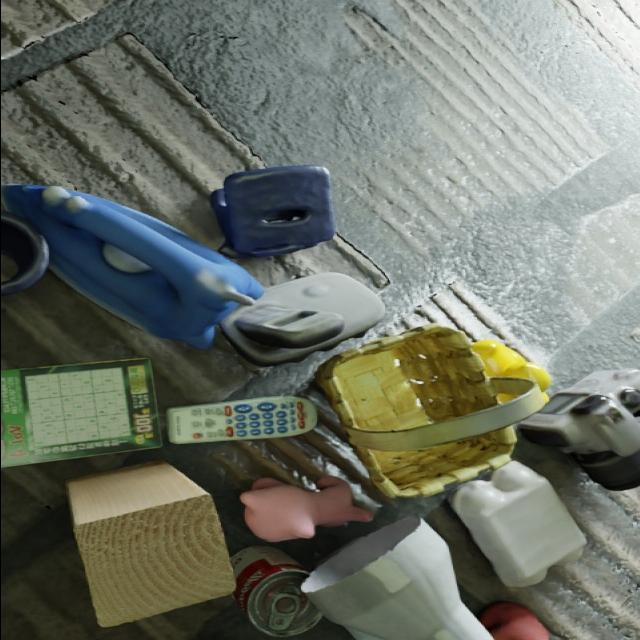Other Objects: (67, 463, 233, 627), (301, 518, 491, 640), (1, 359, 161, 468), (451, 462, 585, 587), (221, 273, 384, 366), (211, 167, 335, 259), (240, 476, 371, 542), (232, 547, 320, 638), (167, 397, 316, 444), (471, 340, 551, 401), (496, 394, 515, 404)
